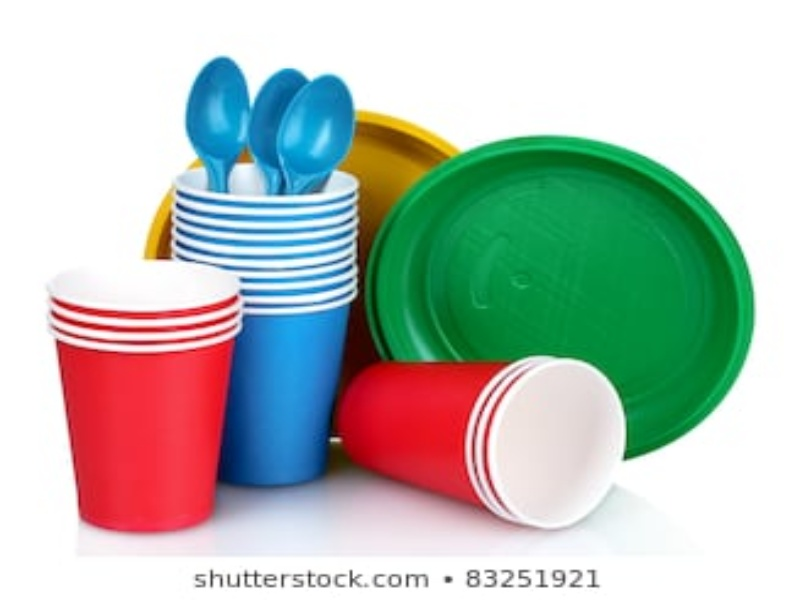plastic-cup: (171, 164, 362, 496), (45, 259, 239, 531), (340, 353, 626, 528)
plastic-plate: (366, 136, 759, 463), (140, 109, 474, 267)
plastic-silverware: (276, 74, 364, 194), (186, 56, 250, 193), (252, 66, 303, 193)
